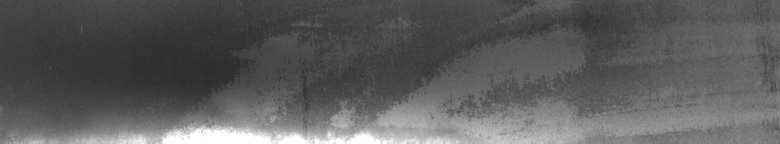ke: (127, 20, 483, 136)
